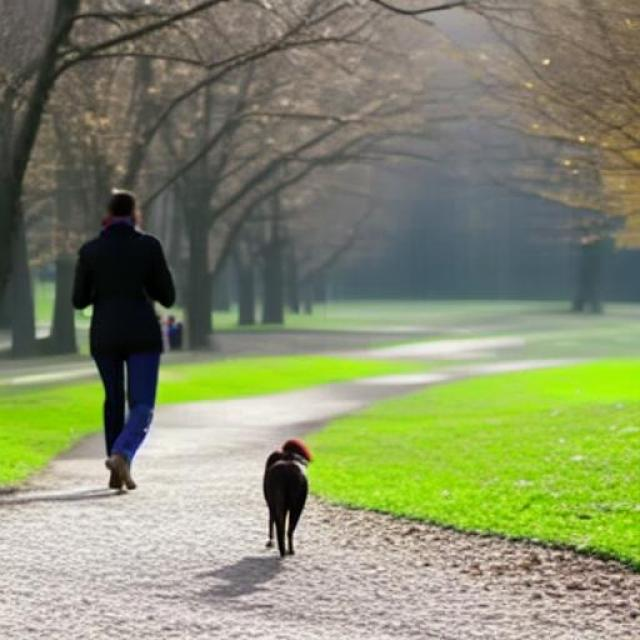Unleashed_Dog: (98, 354, 314, 559)
